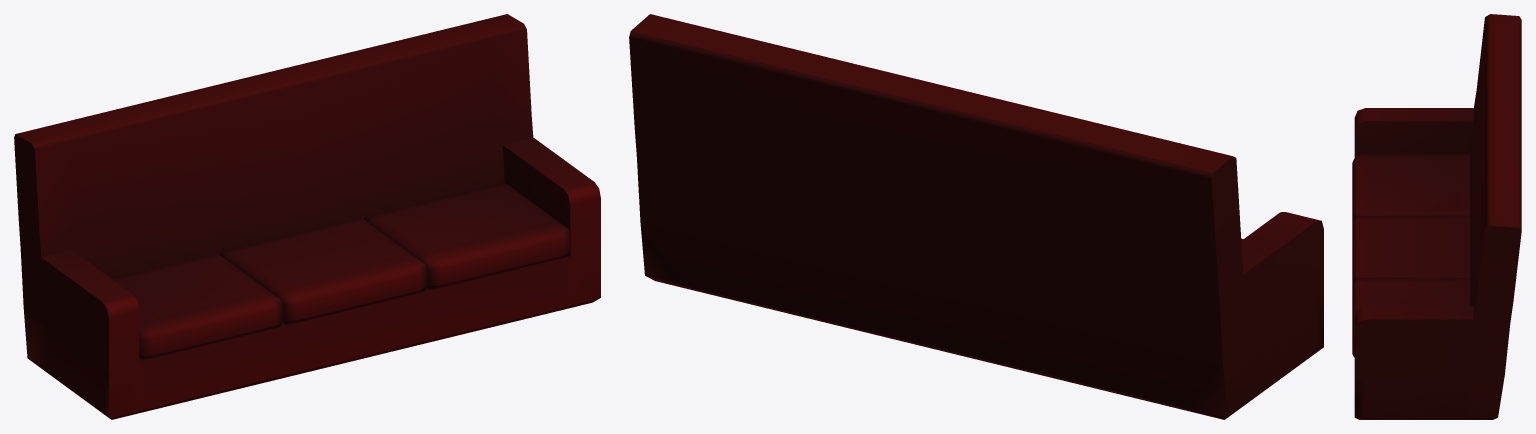
File: PlainSofa003.glb
3 renders of one model, left to right at view 1: azimuth 30°, elevation 25°; view 2: azimuth 150°, elevation 25°; view 3: azimuth 270°, elevation 25°, orthographic. The views are drawn at different scales.
Parts seen in each view (by area): view 1: PlainSofa003; view 2: PlainSofa003; view 3: PlainSofa003.
Part boxes in pixels (box(x1,y1,x2,y2)): PlainSofa003: box(14, 14, 600, 419); PlainSofa003: box(629, 14, 1323, 419); PlainSofa003: box(1352, 14, 1521, 419).
Bounding box in the file's own units: 9.69 × 4.2 × 3.28.
